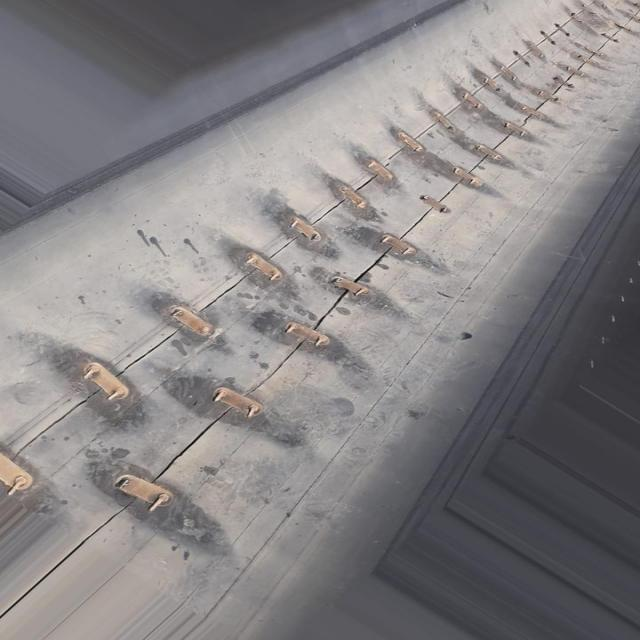patch work: (0, 0, 640, 551)
